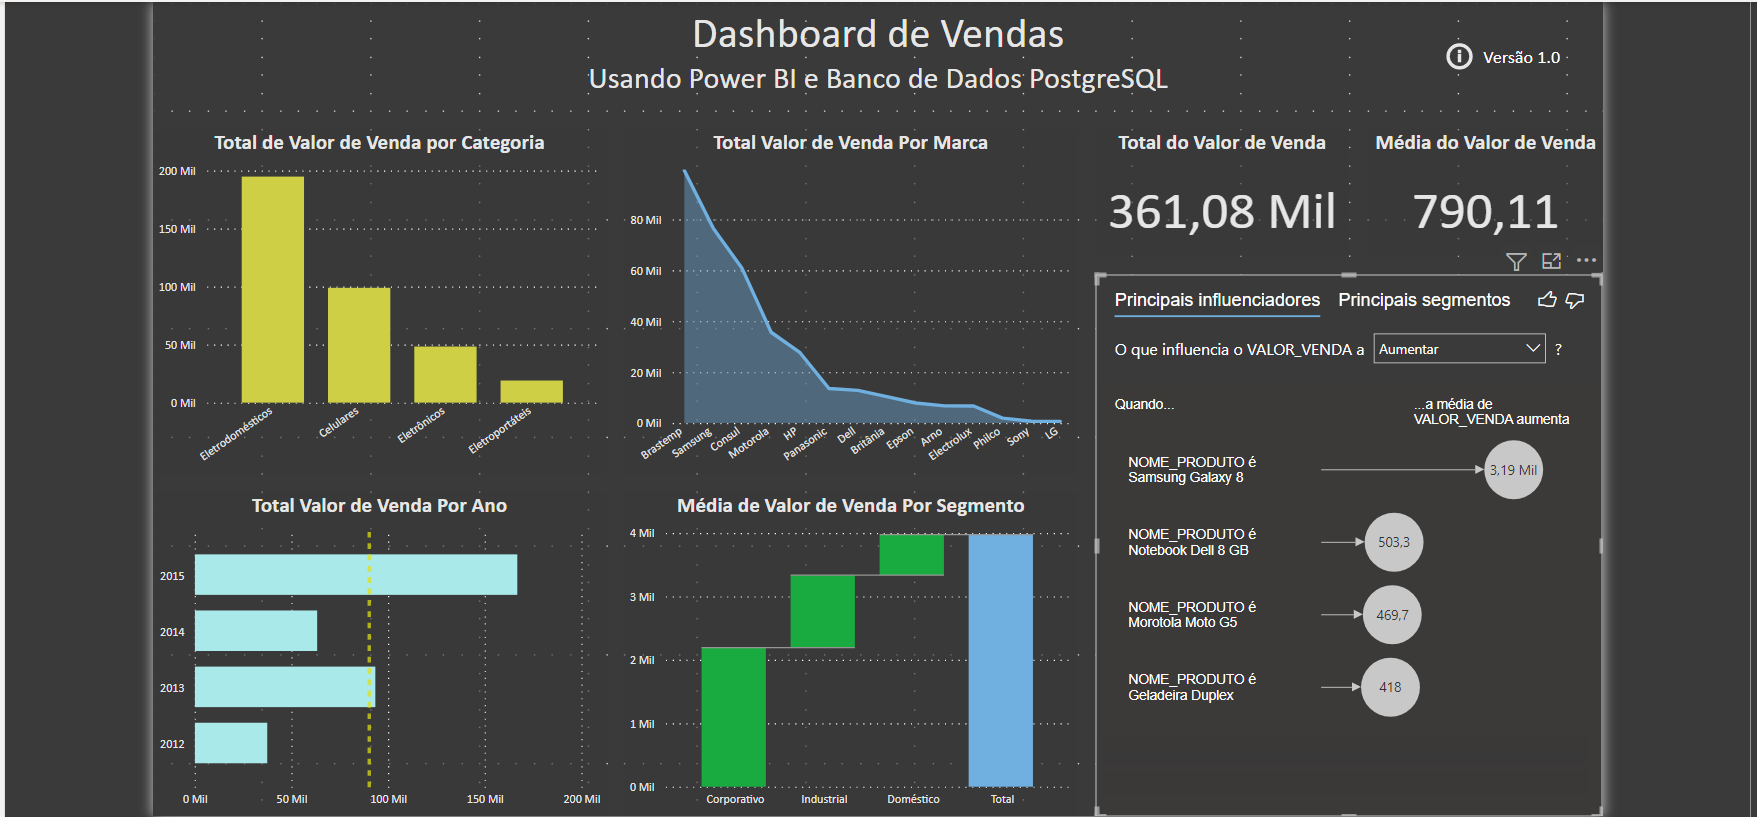

This screenshot's page, from the dashboard's own definition file:
{"tool":"powerbi","page":{"name":"Página 1","canvas":[1280,720],"ordinal":0},"visuals":[{"type":"textbox","box":[0,0,1280,96],"z":0},{"type":"actionButton","box":[1136,32,144,32],"z":1000},{"type":"clusteredColumnChart","title":"Total de Valor de Venda por Categoria","fields":{"Category":["mkt TB_PRODUTO.CATEGORIA"],"Y":["Sum(mkt TB_VENDAS.VALOR_VENDA)"]},"box":[0,112,400,304],"z":2000},{"type":"clusteredBarChart","title":"Total Valor de Venda Por Ano","fields":{"Category":["mkt TB_DATA.ANO_CONDI"],"Y":["Sum(mkt TB_VENDAS.VALOR_VENDA)"]},"box":[0,432,400,288],"z":3000},{"type":"areaChart","title":"Total Valor de Venda Por Marca","fields":{"Category":["mkt TB_PRODUTO.MARCA"],"Y":["Sum(mkt TB_VENDAS.VALOR_VENDA)"]},"box":[416,112,400,304],"z":4000},{"type":"waterfallChart","title":"Média de Valor de Venda Por Segmento","fields":{"Category":["mkt TB_PRODUTO.SEGMENTO"],"Y":["Avg(mkt TB_VENDAS.VALOR_VENDA)"]},"box":[416,432,400,288],"z":5000},{"type":"card","title":"Total do Valor de Venda","fields":{"Values":["Sum(mkt TB_VENDAS.VALOR_VENDA)"]},"box":[832,112,224,112],"z":6000},{"type":"card","title":"Média do Valor de Venda","fields":{"Values":["Avg(mkt TB_VENDAS.VALOR_VENDA)"]},"box":[1072,112,208,112],"z":7000},{"type":"keyDriversVisual","fields":{"Target":["mkt TB_VENDAS.VALOR_VENDA"],"ExplainBy":["mkt TB_PRODUTO.NOME_PRODUTO"]},"box":[832,240,448,480],"z":8000}]}

Visuals, with their boxes on the page's 1280x720 design canvas (x1, y1, x2, y2). These are canvas units, not pixel positions in the 1757x817 screenshot, which may show the page scaled, cropped or inside an application window:
textbox: left=0, top=0, right=1280, bottom=96
actionButton: left=1136, top=32, right=1280, bottom=64
"Total de Valor de Venda por Categoria" clusteredColumnChart: left=0, top=112, right=400, bottom=416
"Total Valor de Venda Por Ano" clusteredBarChart: left=0, top=432, right=400, bottom=720
"Total Valor de Venda Por Marca" areaChart: left=416, top=112, right=816, bottom=416
"Média de Valor de Venda Por Segmento" waterfallChart: left=416, top=432, right=816, bottom=720
"Total do Valor de Venda" card: left=832, top=112, right=1056, bottom=224
"Média do Valor de Venda" card: left=1072, top=112, right=1280, bottom=224
keyDriversVisual - mkt TB_VENDAS.VALOR_VENDA x mkt TB_PRODUTO.NOME_PRODUTO: left=832, top=240, right=1280, bottom=720
